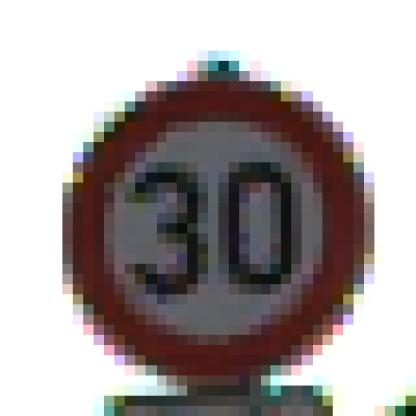Speed Limit 30: (60, 77, 360, 378)
